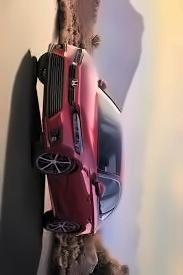Car hood: (73, 47, 100, 163)
Fender - -F-L-: (47, 152, 106, 180)
Fender - -R-L-: (58, 220, 96, 233)
Front bumper: (40, 40, 71, 161)
Headlight - -L-: (70, 111, 84, 157)
Headlight - -R-: (71, 44, 90, 68)
Passenger-s door - -F-L-: (50, 181, 122, 203)
Passenger-s door - -R-L-: (53, 198, 122, 225)
Rear bumper: (50, 227, 76, 240)
Rear light - -L-: (89, 228, 100, 239)
Side bumper - -L-: (46, 173, 63, 224)
Side mirror - -L-: (90, 178, 107, 199)
Side mirror - -R-: (96, 75, 110, 94)
